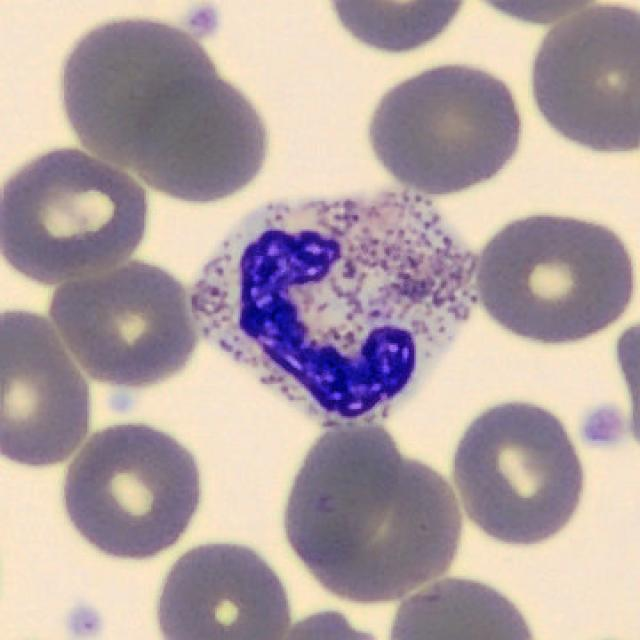Bastonete: (190, 190, 476, 425)
